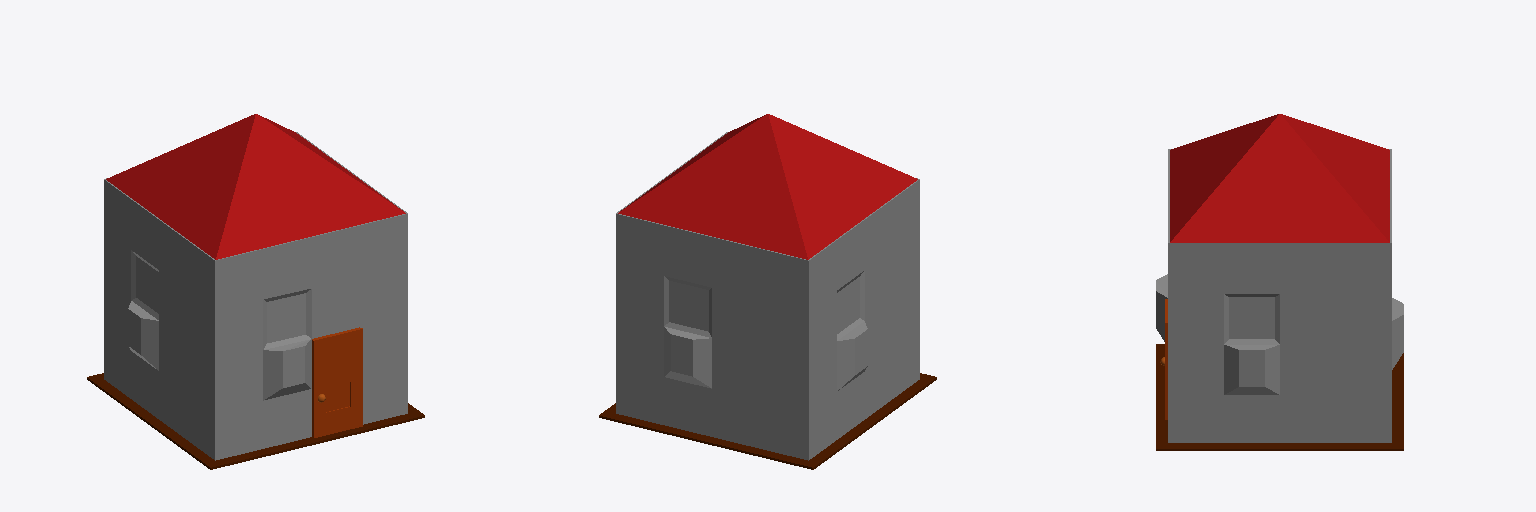
The model's file is House.obj.
3 renders of one model, left to right at view 1: azimuth 30°, elevation 25°; view 2: azimuth 150°, elevation 25°; view 3: azimuth 270°, elevation 25°, orthographic.
Visible parts, largest first — view 1: Box002, Pyramid001, Box003, Tile_Floor; view 2: Box002, Pyramid001, Tile_Floor; view 3: Box002, Pyramid001, Tile_Floor.
Boxes of the visible parts, <box> form: Box002: <box>104,132,407,460</box>; Pyramid001: <box>106,114,405,259</box>; Box003: <box>312,327,362,437</box>; Tile_Floor: <box>87,373,424,469</box>; Box002: <box>616,132,919,460</box>; Pyramid001: <box>618,114,917,259</box>; Tile_Floor: <box>599,373,936,469</box>; Box002: <box>1156,149,1403,442</box>; Pyramid001: <box>1170,114,1389,242</box>; Tile_Floor: <box>1156,344,1403,450</box>.
Size of the model in its own units: 100 by 127 by 100.